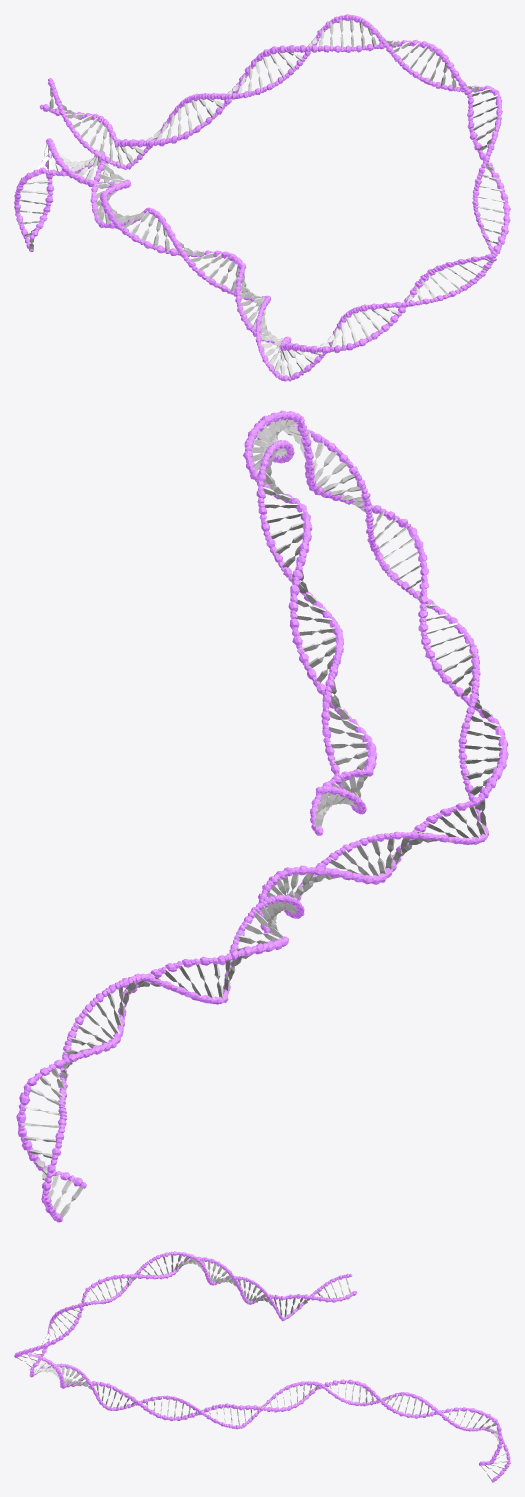
Rendered from dna.glb.
3 views of the same model, one above another, from view 1: azimuth 30°, elevation 25°; view 2: azimuth 150°, elevation 25°; view 3: azimuth 270°, elevation 25° (orthographic). The views are drawn at different scales.
Visible parts, largest first — view 1: Object_5, Object_4, Object_6; view 2: Object_4, Object_5, Object_6; view 3: Object_4, Object_6, Object_5.
Boxes of the visible parts, x1,y1,x2,y2 form: Object_5: [15, 14, 510, 342]; Object_4: [18, 19, 504, 377]; Object_6: [14, 138, 470, 381]; Object_4: [22, 418, 502, 1219]; Object_5: [18, 410, 466, 1222]; Object_6: [16, 588, 508, 1195]; Object_4: [17, 1255, 508, 1480]; Object_6: [34, 1359, 510, 1465]; Object_5: [14, 1251, 510, 1482].
Bounding box in the file's own units: 139 × 205 × 358.
